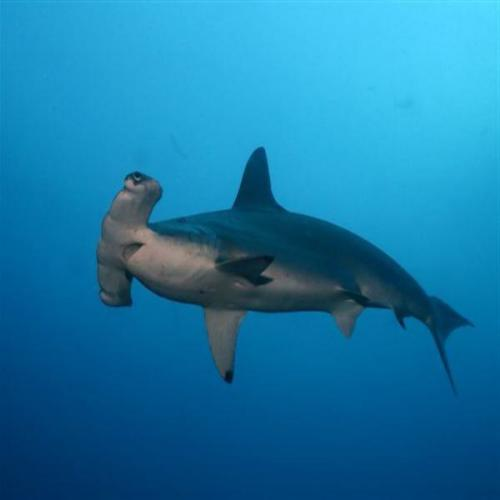shark-endangered: (94, 145, 478, 402)
